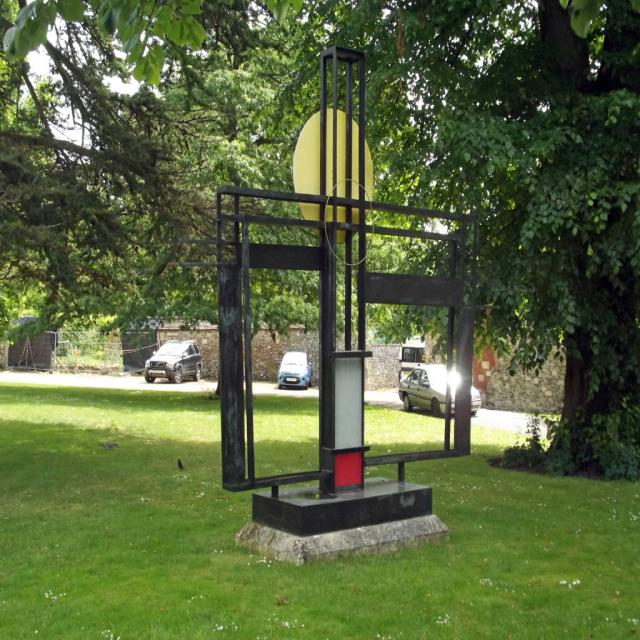car: (278, 350, 313, 389)
